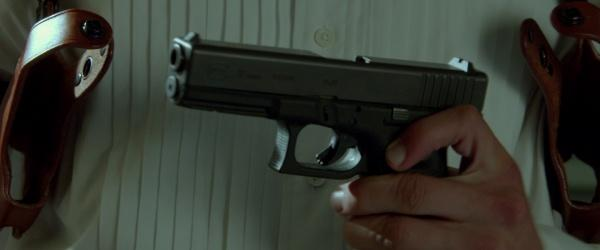Gun: (167, 32, 487, 179)
